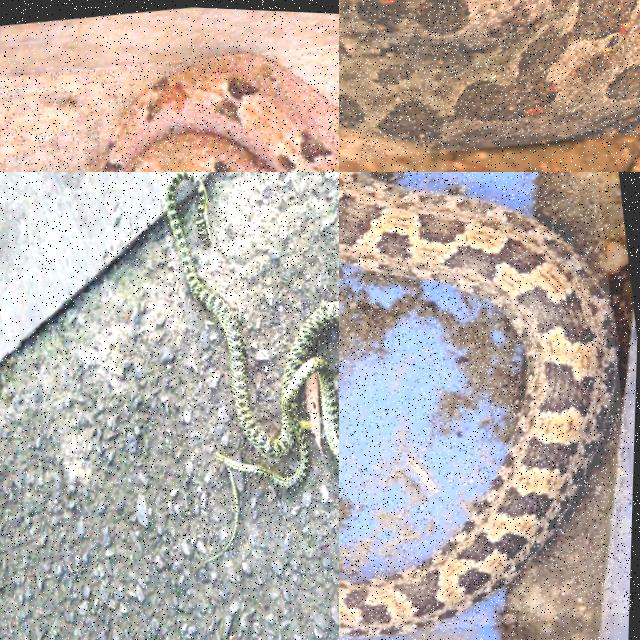Calloselasma rhodostoma: (103, 55, 338, 171)
Chrysopelea ornata: (166, 172, 338, 564)
Daboia siamensis: (339, 0, 639, 146)
Ovophis monticola: (339, 172, 617, 637)
